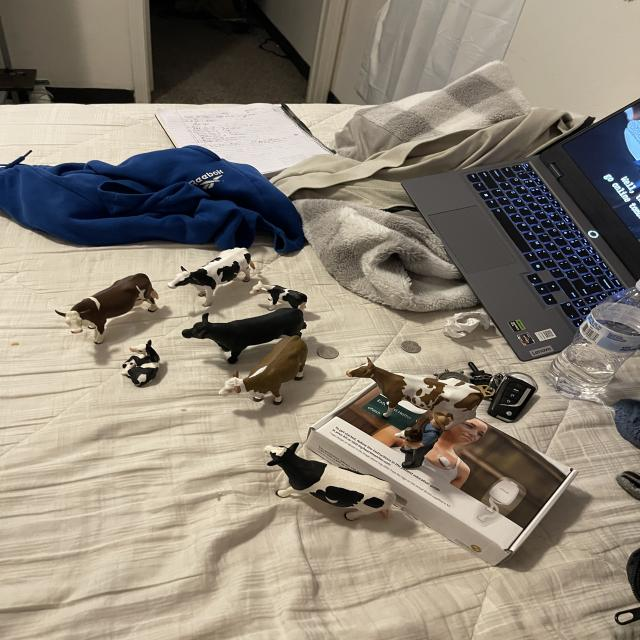cow: (249, 432, 400, 540), (338, 353, 486, 439), (214, 326, 325, 430), (55, 263, 166, 356), (180, 305, 309, 368), (163, 243, 262, 317), (113, 338, 168, 393), (248, 275, 310, 316), (401, 406, 434, 446)
person: (398, 407, 453, 475)
